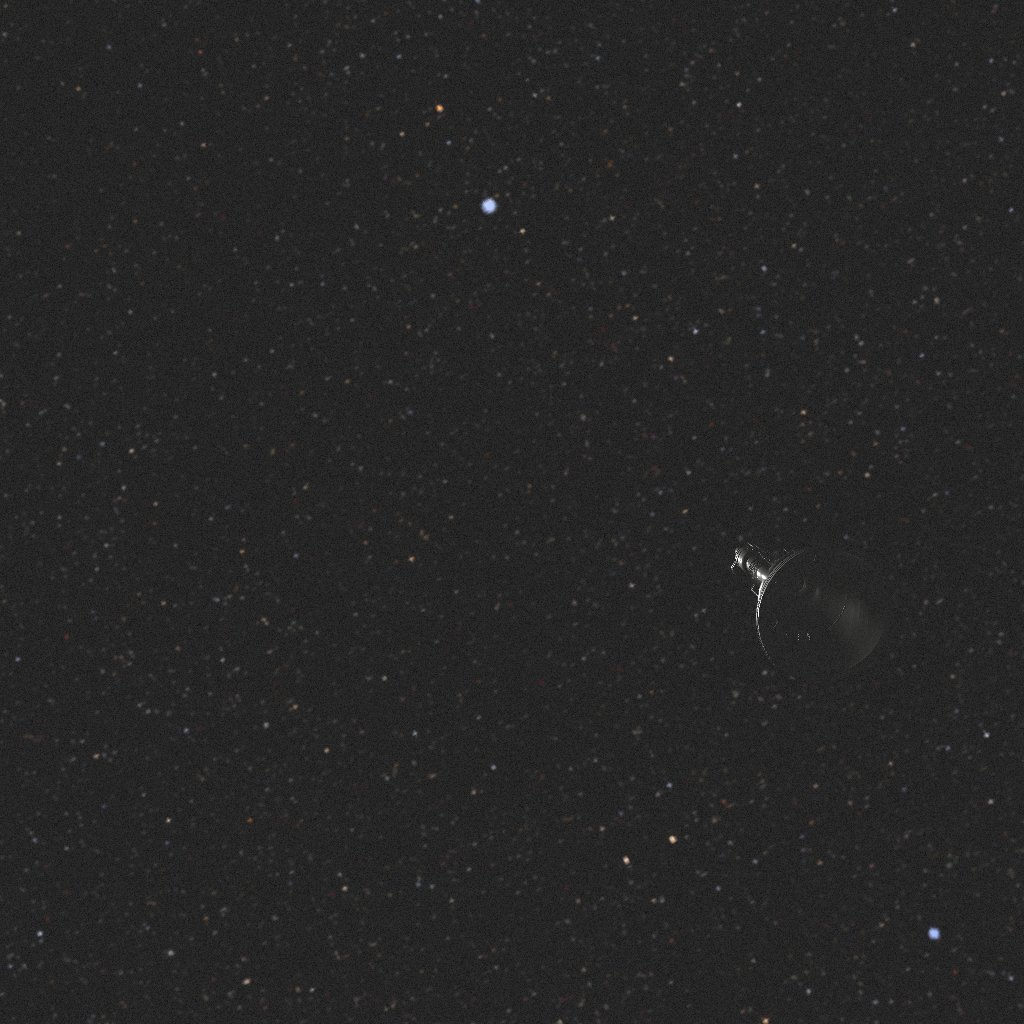debris: (731, 543, 894, 683)
